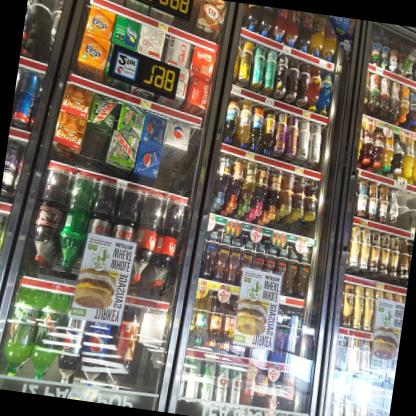empty_space: (136, 307, 166, 368)
